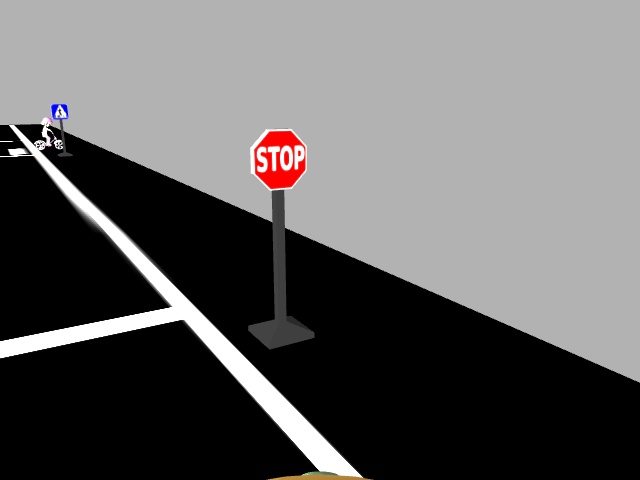Stop: (245, 125, 308, 192)
